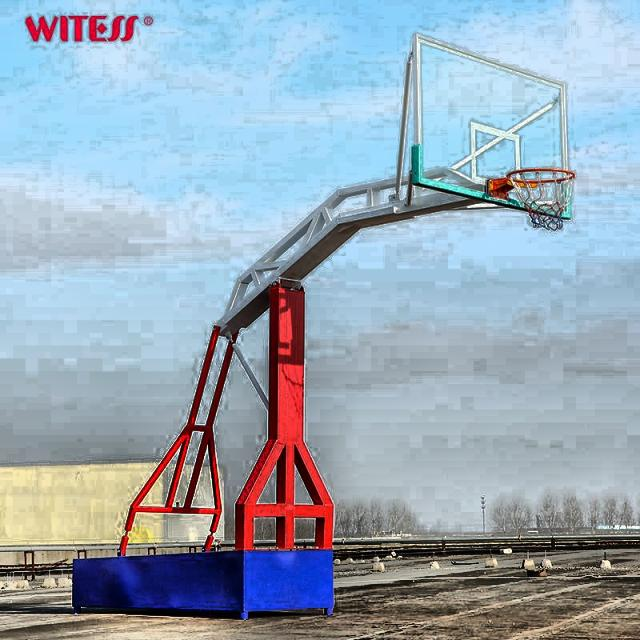rim: (505, 168, 577, 232)
